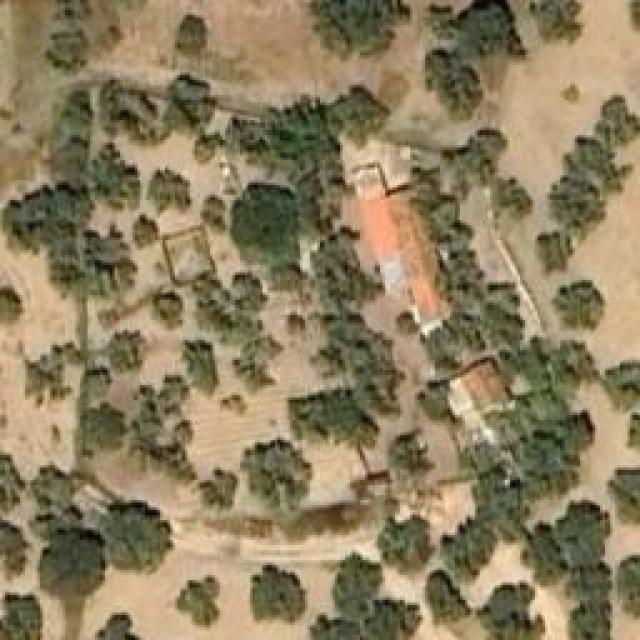Tree: (2, 178, 90, 248), (310, 0, 413, 55), (230, 183, 300, 258), (35, 530, 108, 598), (105, 500, 173, 570), (240, 440, 310, 508), (423, 48, 486, 118), (98, 72, 158, 140), (477, 582, 545, 640), (377, 508, 435, 571), (30, 463, 88, 526), (548, 175, 603, 240), (43, 0, 93, 70), (245, 563, 303, 623), (332, 83, 390, 143), (93, 145, 146, 208), (455, 0, 515, 55), (328, 555, 383, 615), (440, 515, 495, 575), (560, 500, 605, 568), (165, 73, 210, 138), (175, 575, 228, 630), (550, 275, 605, 328), (233, 335, 283, 393), (420, 573, 470, 626), (517, 0, 580, 42), (518, 522, 563, 580), (383, 428, 432, 480), (180, 338, 223, 393), (553, 340, 596, 395), (595, 93, 638, 146), (488, 173, 533, 223), (148, 165, 193, 213), (365, 600, 417, 639), (75, 408, 120, 453), (0, 592, 42, 639), (603, 358, 638, 413), (608, 460, 638, 523), (193, 470, 233, 513), (533, 228, 573, 271), (93, 612, 148, 640), (107, 330, 145, 370), (0, 455, 25, 515), (617, 554, 640, 617), (75, 363, 110, 403), (175, 13, 205, 56), (60, 90, 93, 128), (198, 192, 231, 230), (135, 213, 165, 246), (155, 293, 183, 328), (0, 285, 25, 323), (220, 393, 248, 423), (283, 310, 308, 338)
